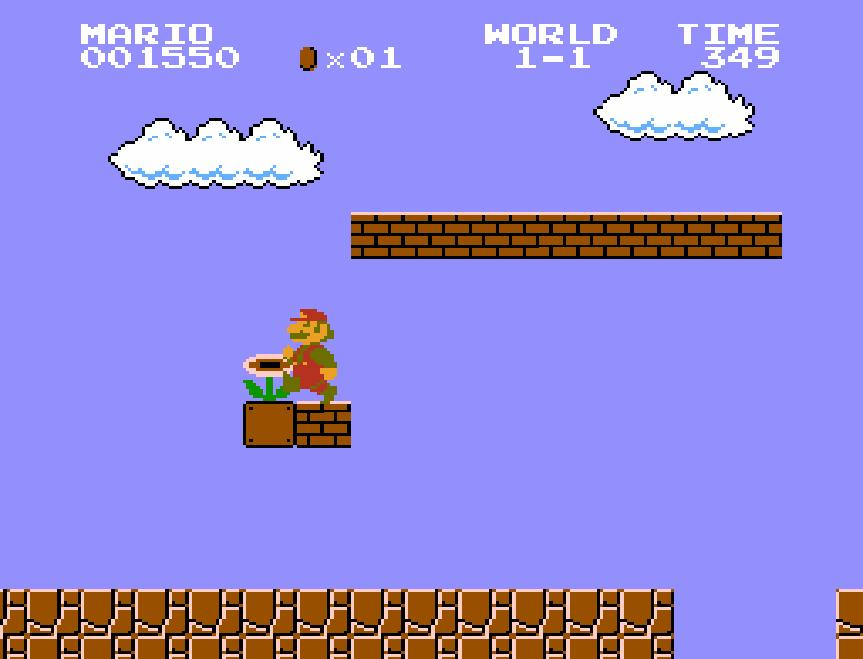big_mario: (280, 307, 338, 405)
